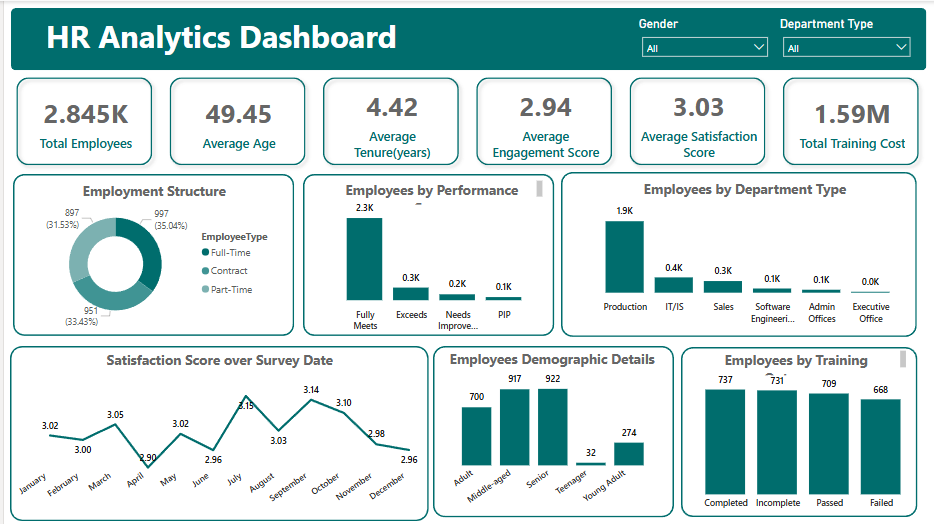

What the dashboard file says about the page in this screenshot:
{"tool":"powerbi","page":{"name":"Page 4","canvas":[1280,720],"ordinal":2},"visuals":[{"type":"shape","box":[10,10,1260,85.7],"z":0},{"type":"textbox","box":[52.9,14.3,661.4,74.3],"z":1000},{"type":"cardVisual","title":"Total Employees","fields":{"Data":["CountNonNull(HR_Dataset.Employee ID)","Avg(HR_Dataset.Age)","HR_Dataset.Average Tenure","Avg(HR_Dataset.Engagement Score)","Avg(HR_Dataset.Satisfaction Score)","Sum(HR_Dataset.Training Cost)"]},"box":[0,88.3,1280,155],"z":2000},{"type":"shape","box":[590,474.2,331.7,235.8],"z":3000},{"type":"shape","box":[767.1,235.7,490,227.1],"z":4000},{"type":"shape","box":[931.4,475.7,325.7,234.3],"z":5000},{"type":"shape","box":[12.9,238.6,387.1,222.9],"z":6000},{"type":"shape","box":[411.4,238.6,345.7,222.9],"z":7000},{"type":"columnChart","fields":{"Category":["HR_Dataset.Demographic Hierarchy.Age Group","HR_Dataset.Demographic Hierarchy.MaritalDesc","HR_Dataset.Demographic Hierarchy.GenderCode"],"Y":["CountNonNull(HR_Dataset.Employee ID)"]},"box":[603.6,498.2,303.6,210.9],"z":8000},{"type":"columnChart","fields":{"Category":["HR_Dataset.Training Outcome"],"Y":["CountNonNull(HR_Dataset.Employee ID)"]},"box":[931.8,498.2,338.2,210.9],"z":9000},{"type":"columnChart","fields":{"Y":["CountNonNull(HR_Dataset.Employee ID)"],"Category":["HR_Dataset.Performance Score"]},"box":[432.9,258.6,312.9,204.3],"z":10000},{"type":"columnChart","fields":{"Category":["HR_Dataset.DepartmentType"],"Y":["CountNonNull(HR_Dataset.Employee ID)"]},"box":[785.7,268.6,467.1,184.3],"z":11000},{"type":"donutChart","fields":{"Category":["HR_Dataset.Employment Structure.EmployeeType","HR_Dataset.Employment Structure.EmployeeClassificationType","HR_Dataset.Employment Structure.PayZone"],"Y":["CountNonNull(HR_Dataset.Employee ID)"]},"box":[30,268.3,354.2,187.5],"z":12000},{"type":"shape","box":[8.6,474.3,577.1,241.4],"z":13000},{"type":"lineChart","fields":{"Y":["Avg(HR_Dataset.Satisfaction Score)"],"Category":["HR_Dataset.Survey Date.Variation.Date Hierarchy.Month"]},"box":[12.5,511.7,567.5,198.3],"z":14000},{"type":"textbox","box":[820,241.4,398.6,48.6],"z":15000},{"type":"textbox","box":[438.6,242.9,307.1,42.9],"z":16000},{"type":"textbox","box":[601.8,475.5,305.5,43.6],"z":17000},{"type":"textbox","box":[941.8,476.4,305.5,43.6],"z":18000},{"type":"textbox","box":[97.5,475.8,398.3,43.3],"z":19000},{"type":"textbox","box":[53.3,243.3,305.8,43.3],"z":20000},{"type":"slicer","title":"Department Type","fields":{"Values":["HR_Dataset.DepartmentType"]},"box":[1062,21,195,63],"z":21000},{"type":"slicer","title":"Gender","fields":{"Values":["HR_Dataset.GenderCode"]},"box":[869,21,193,63],"z":22000}]}

Visuals, with their boxes in screenshot pixels (x1, y1, x2, y2), scaled from the page's 1280x720 canvas onto the 934x524 screenshot:
shape: (left=7, top=7, right=927, bottom=70)
textbox: (left=39, top=10, right=521, bottom=64)
"Total Employees" cardVisual: (left=0, top=64, right=933, bottom=177)
shape: (left=431, top=345, right=673, bottom=517)
shape: (left=560, top=172, right=917, bottom=337)
shape: (left=680, top=346, right=917, bottom=517)
shape: (left=9, top=174, right=292, bottom=336)
shape: (left=300, top=174, right=552, bottom=336)
columnChart - HR_Dataset.Demographic Hierarchy.Age Group x HR_Dataset.Demographic Hierarchy.MaritalDesc: (left=440, top=363, right=662, bottom=516)
columnChart - HR_Dataset.Training Outcome x CountNonNull(HR_Dataset.Employee ID): (left=680, top=363, right=927, bottom=516)
columnChart - CountNonNull(HR_Dataset.Employee ID) x HR_Dataset.Performance Score: (left=316, top=188, right=544, bottom=337)
columnChart - HR_Dataset.DepartmentType x CountNonNull(HR_Dataset.Employee ID): (left=573, top=195, right=914, bottom=330)
donutChart - HR_Dataset.Employment Structure.EmployeeType x HR_Dataset.Employment Structure.EmployeeClassificationType: (left=22, top=195, right=280, bottom=332)
shape: (left=6, top=345, right=427, bottom=521)
lineChart - Avg(HR_Dataset.Satisfaction Score) x HR_Dataset.Survey Date.Variation.Date Hierarchy.Month: (left=9, top=372, right=423, bottom=517)
textbox: (left=598, top=176, right=889, bottom=211)
textbox: (left=320, top=177, right=544, bottom=208)
textbox: (left=439, top=346, right=662, bottom=378)
textbox: (left=687, top=347, right=910, bottom=378)
textbox: (left=71, top=346, right=362, bottom=378)
textbox: (left=39, top=177, right=262, bottom=209)
"Department Type" slicer: (left=775, top=15, right=917, bottom=61)
"Gender" slicer: (left=634, top=15, right=775, bottom=61)
